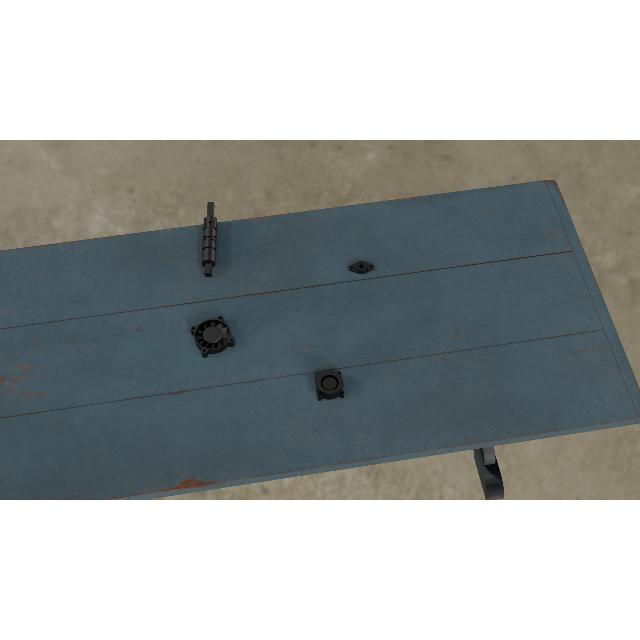Pieza1: (200, 200, 218, 280)
Pieza2: (348, 260, 374, 274)
Pieza3: (314, 368, 346, 402)
Pieza4: (189, 314, 237, 360)
